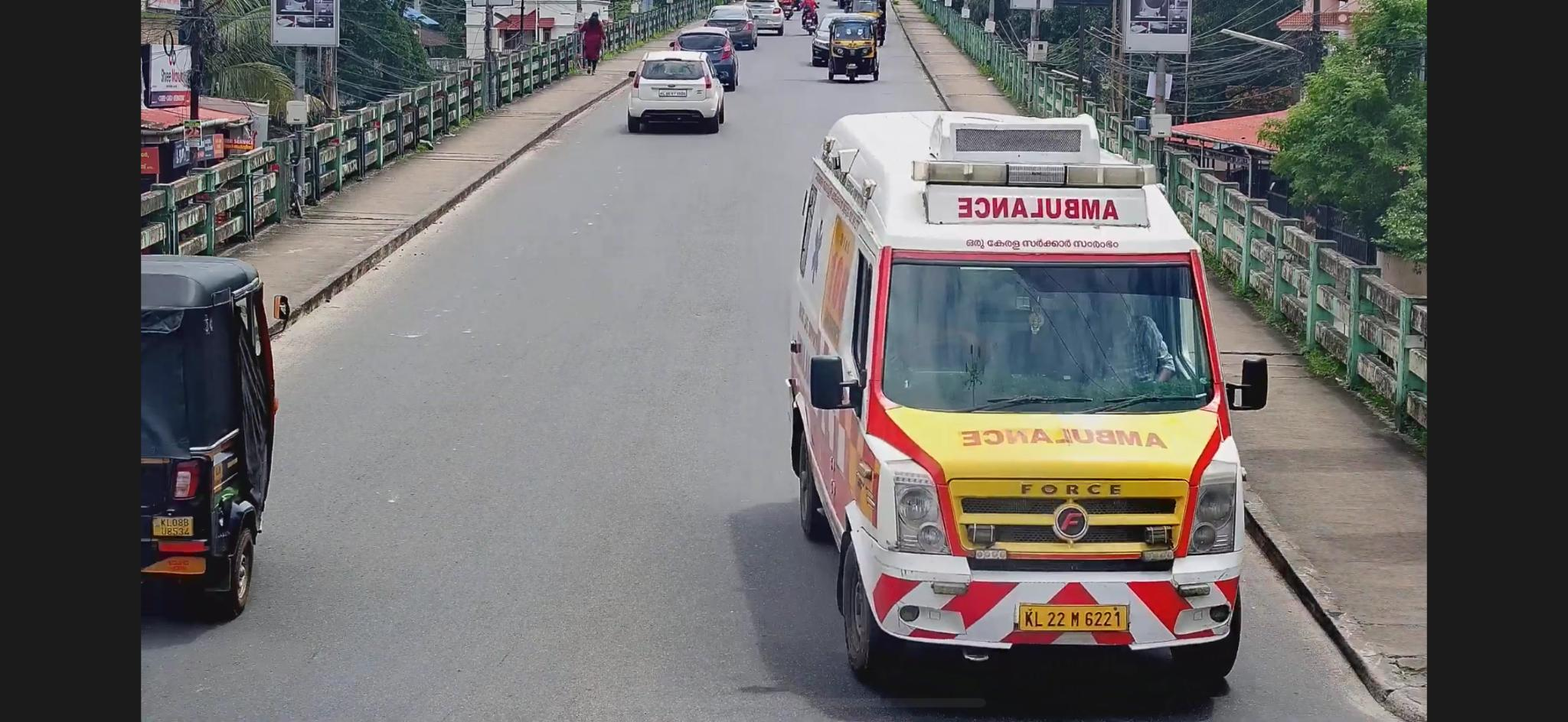ambulance: (800, 96, 1246, 694)
